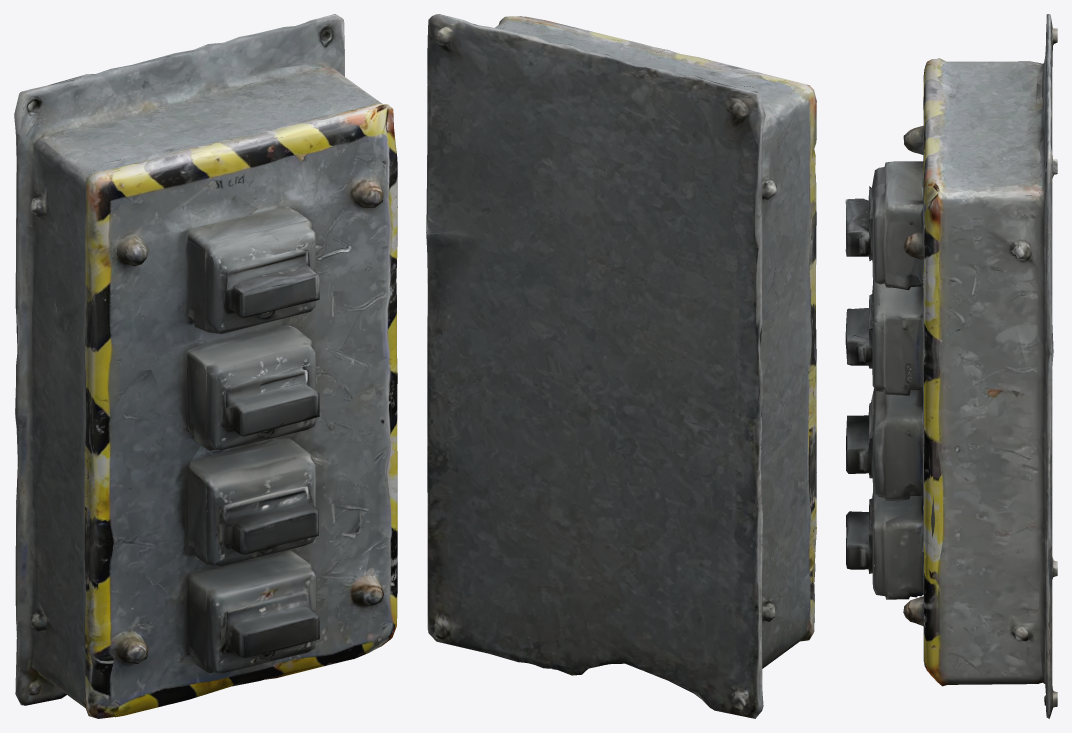
File: breaker_box_LOD1.fbx
The picture shows the model from 3 angles, left to right: view 1: azimuth 30°, elevation 25°; view 2: azimuth 150°, elevation 25°; view 3: azimuth 270°, elevation 25°; orthographic projection. The views are drawn at different scales.
Parts seen in each view (by area): view 1: breaker_box.001; view 2: breaker_box.001; view 3: breaker_box.001.
Part boxes in pixels (left/top/right/bottom): breaker_box.001: left=14, top=14, right=397, bottom=718; breaker_box.001: left=426, top=14, right=816, bottom=718; breaker_box.001: left=845, top=14, right=1057, bottom=718.
Bounding box in the file's own units: 0.4488 × 0.7998 × 0.2717.
Materials: 1 (1 with a texture image).
